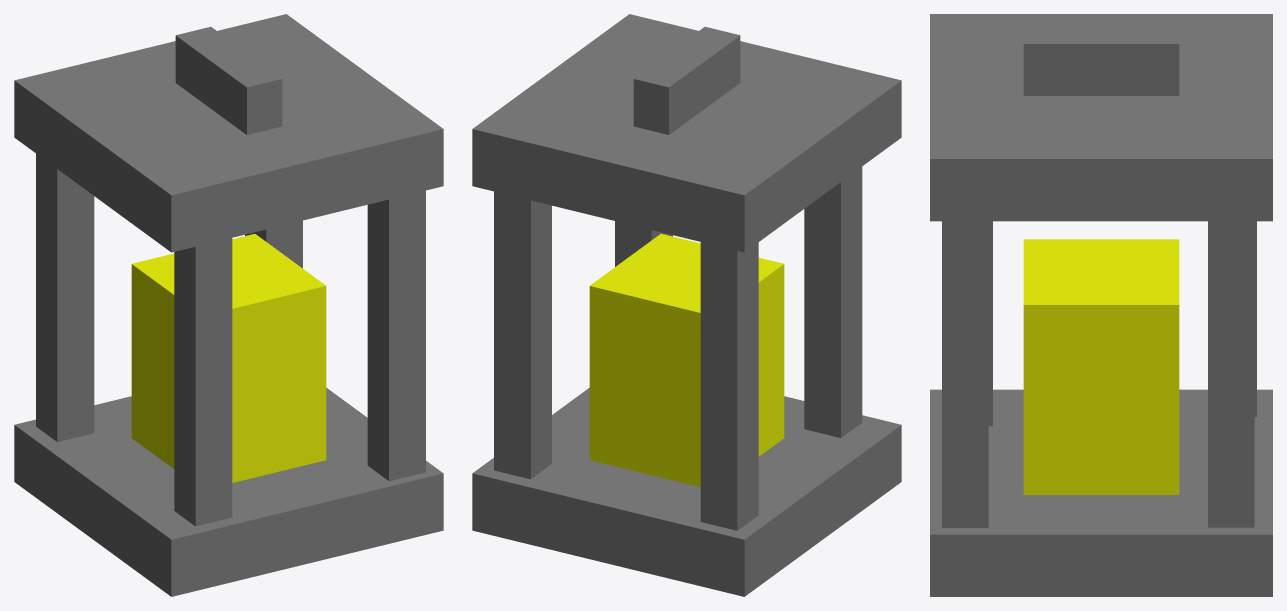
File: Lantern.fbx
The picture shows the model from 3 angles, left to right: view 1: azimuth 30°, elevation 25°; view 2: azimuth 150°, elevation 25°; view 3: azimuth 270°, elevation 25°; orthographic projection. The views are drawn at different scales.
Visible parts, largest first — view 1: Lantern; view 2: Lantern; view 3: Lantern.
Part boxes in pixels (x1,y1,x2,y2): Lantern: (14, 14, 443, 596); Lantern: (472, 14, 901, 596); Lantern: (930, 14, 1272, 596).
Size of the model in its own units: 24.2 by 38.18 by 24.2.
